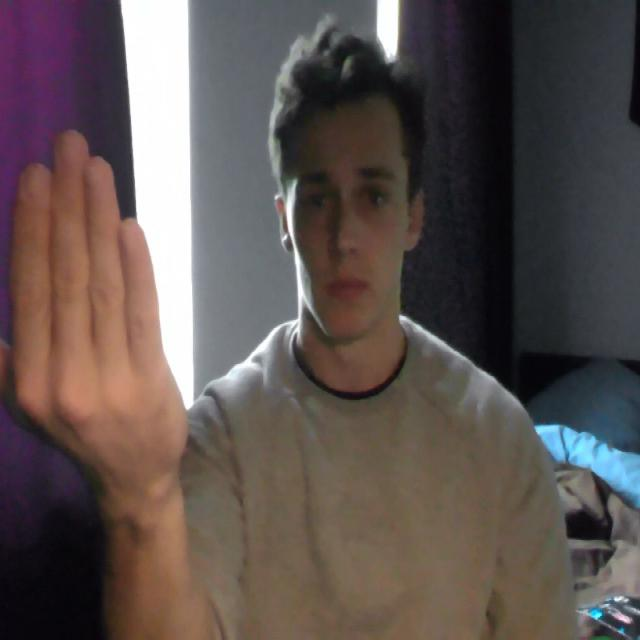forward: (0, 95, 202, 552)
